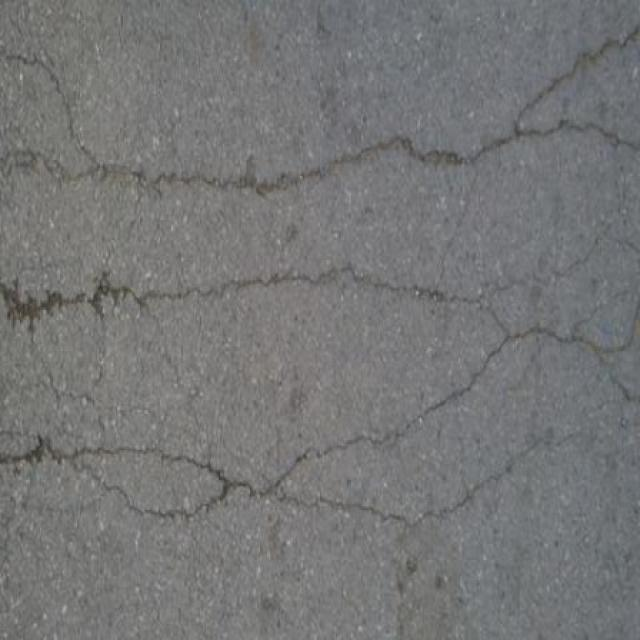Diagonal Crack: (0, 215, 640, 530), (0, 19, 640, 205)
